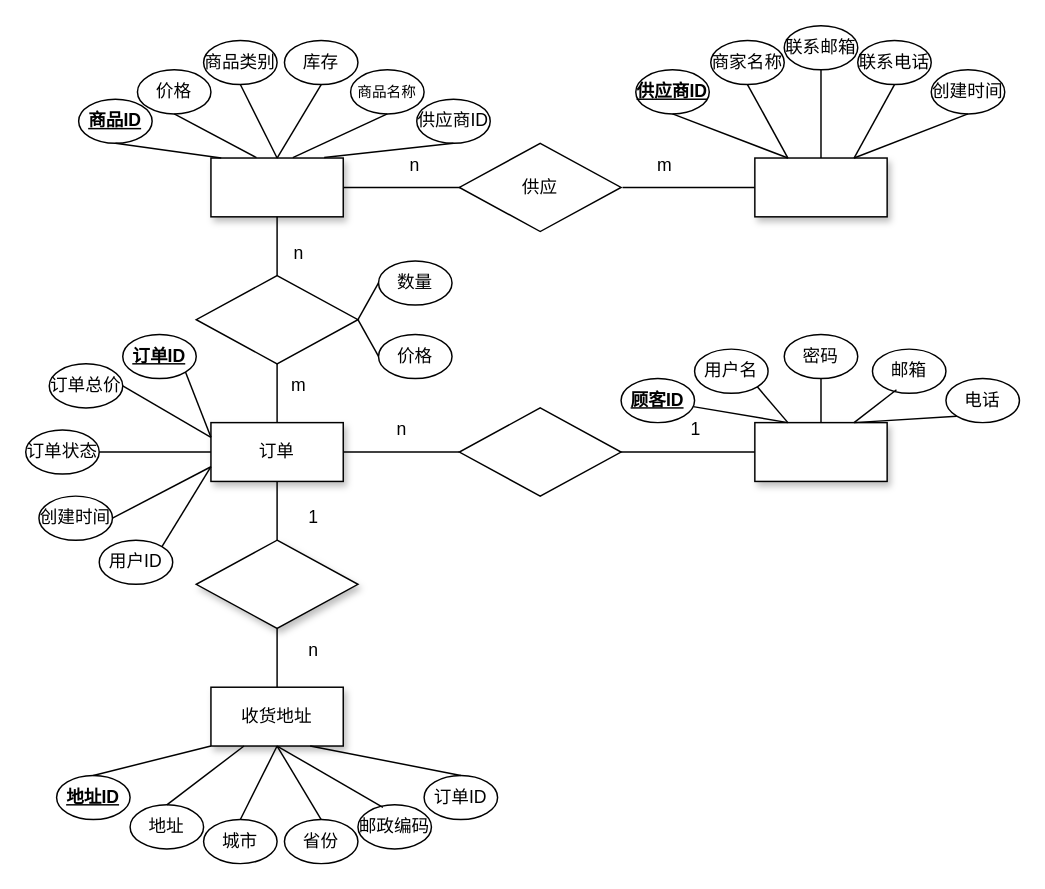
The diagram is 1045 pixels wide and 889 high, and some of its shapes have lost their labels. The centre of each missing label's shape, as x and y in pixels:
"产生" belongs at [539,451].
"供应商" belongs at [821,189].
"包含" belongs at [278,586].
"商品" belongs at [278,189].
"属于" belongs at [276,319].
"用户" belongs at [821,453].
